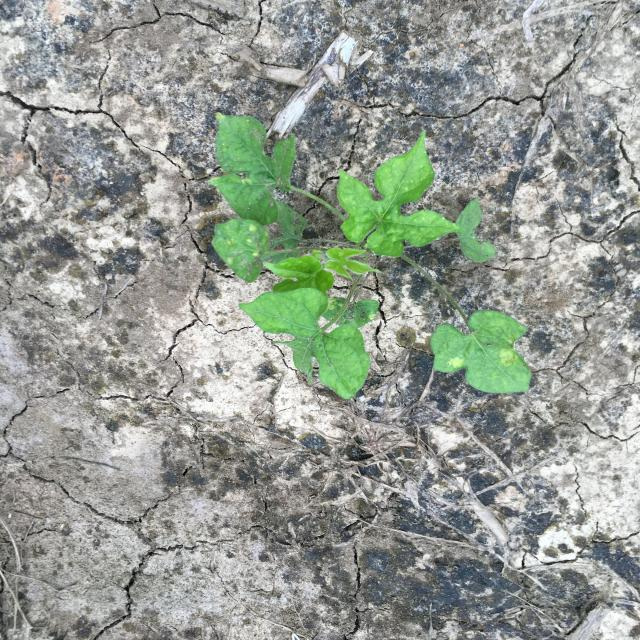MorningGlory: (206, 112, 532, 400)
